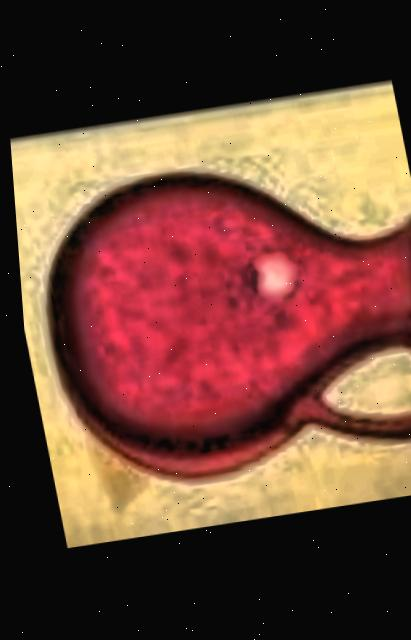El Cantarito: (5, 80, 411, 548)
